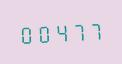four: (52, 20, 68, 43)
seven: (69, 19, 85, 42), (86, 18, 102, 41)
zero: (18, 22, 34, 45), (35, 21, 51, 44)
